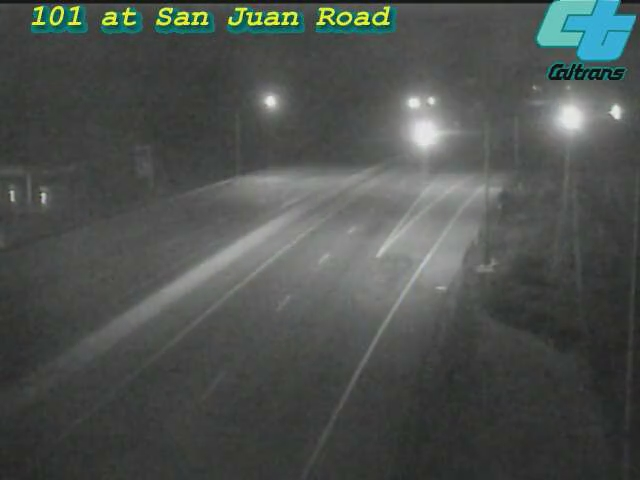vehicle: (394, 111, 444, 161), (543, 91, 593, 141), (593, 89, 640, 139)
